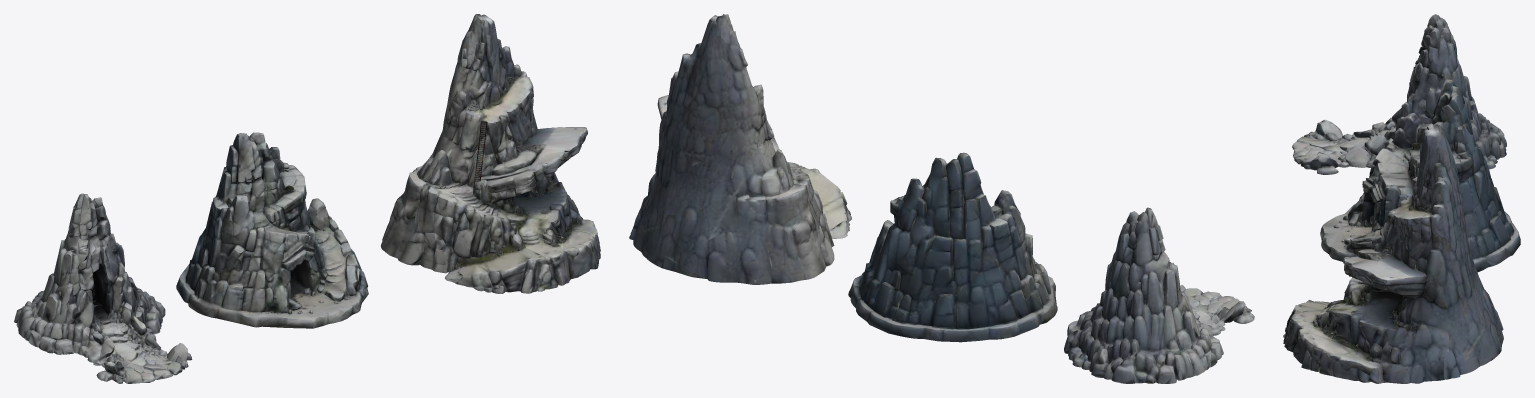
3 views of the same model, side by side, from view 1: azimuth 30°, elevation 25°; view 2: azimuth 150°, elevation 25°; view 3: azimuth 270°, elevation 25° (orthographic). The views are drawn at different scales.
Visible parts, largest first — view 1: Cave Rock Mountain3_RockMountain2_Merged0_LOD0_Bake_0, Cave Rock Mountain2_CaveMountain1_Merged0_LOD0_Bake_0, Cave Rock Mountain1_RockMountain3Material_0; view 2: Cave Rock Mountain3_RockMountain2_Merged0_LOD0_Bake_0, Cave Rock Mountain2_CaveMountain1_Merged0_LOD0_Bake_0, Cave Rock Mountain1_RockMountain3Material_0; view 3: Cave Rock Mountain3_RockMountain2_Merged0_LOD0_Bake_0, Cave Rock Mountain2_CaveMountain1_Merged0_LOD0_Bake_0, Cave Rock Mountain1_RockMountain3Material_0.
Boxes of the visible parts, left/top/right/bottom form: Cave Rock Mountain3_RockMountain2_Merged0_LOD0_Bake_0: left=381, top=14, right=600, bottom=293; Cave Rock Mountain2_CaveMountain1_Merged0_LOD0_Bake_0: left=176, top=132, right=368, bottom=328; Cave Rock Mountain1_RockMountain3Material_0: left=14, top=193, right=192, bottom=383; Cave Rock Mountain3_RockMountain2_Merged0_LOD0_Bake_0: left=629, top=14, right=851, bottom=284; Cave Rock Mountain2_CaveMountain1_Merged0_LOD0_Bake_0: left=848, top=152, right=1057, bottom=342; Cave Rock Mountain1_RockMountain3Material_0: left=1064, top=207, right=1254, bottom=383; Cave Rock Mountain3_RockMountain2_Merged0_LOD0_Bake_0: left=1283, top=123, right=1503, bottom=383; Cave Rock Mountain2_CaveMountain1_Merged0_LOD0_Bake_0: left=1320, top=79, right=1520, bottom=272; Cave Rock Mountain1_RockMountain3Material_0: left=1292, top=14, right=1506, bottom=174.
Size of the model in its own units: 72.93 by 28.2 by 27.87.
4 materials, 4 textured.
